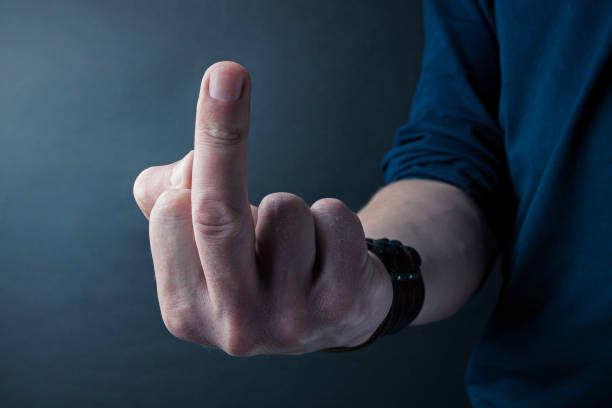insulting_gesture: (129, 59, 369, 365)
